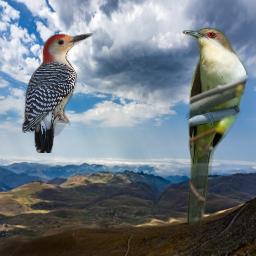Cuckoo: (182, 27, 249, 226)
Woodpecker: (22, 33, 93, 153)
